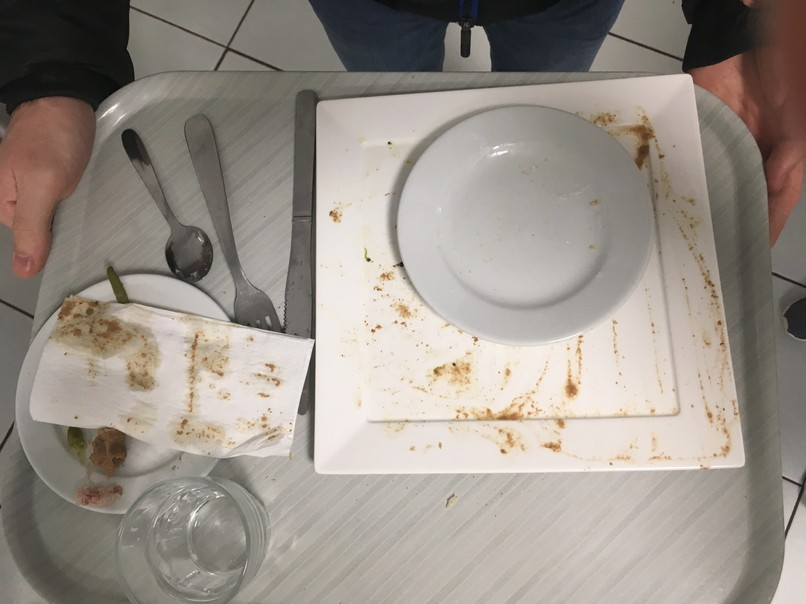cup: (110, 470, 277, 604)
cutlery: (171, 109, 286, 344), (115, 126, 216, 281), (282, 85, 323, 426)
orga: (91, 427, 127, 476)
trash: (59, 300, 315, 461)
